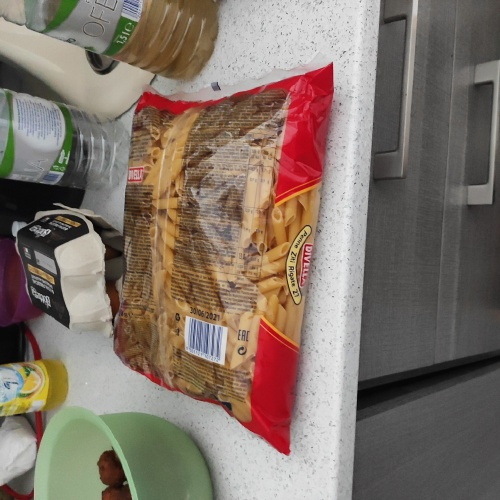pasta: (118, 71, 335, 415)
